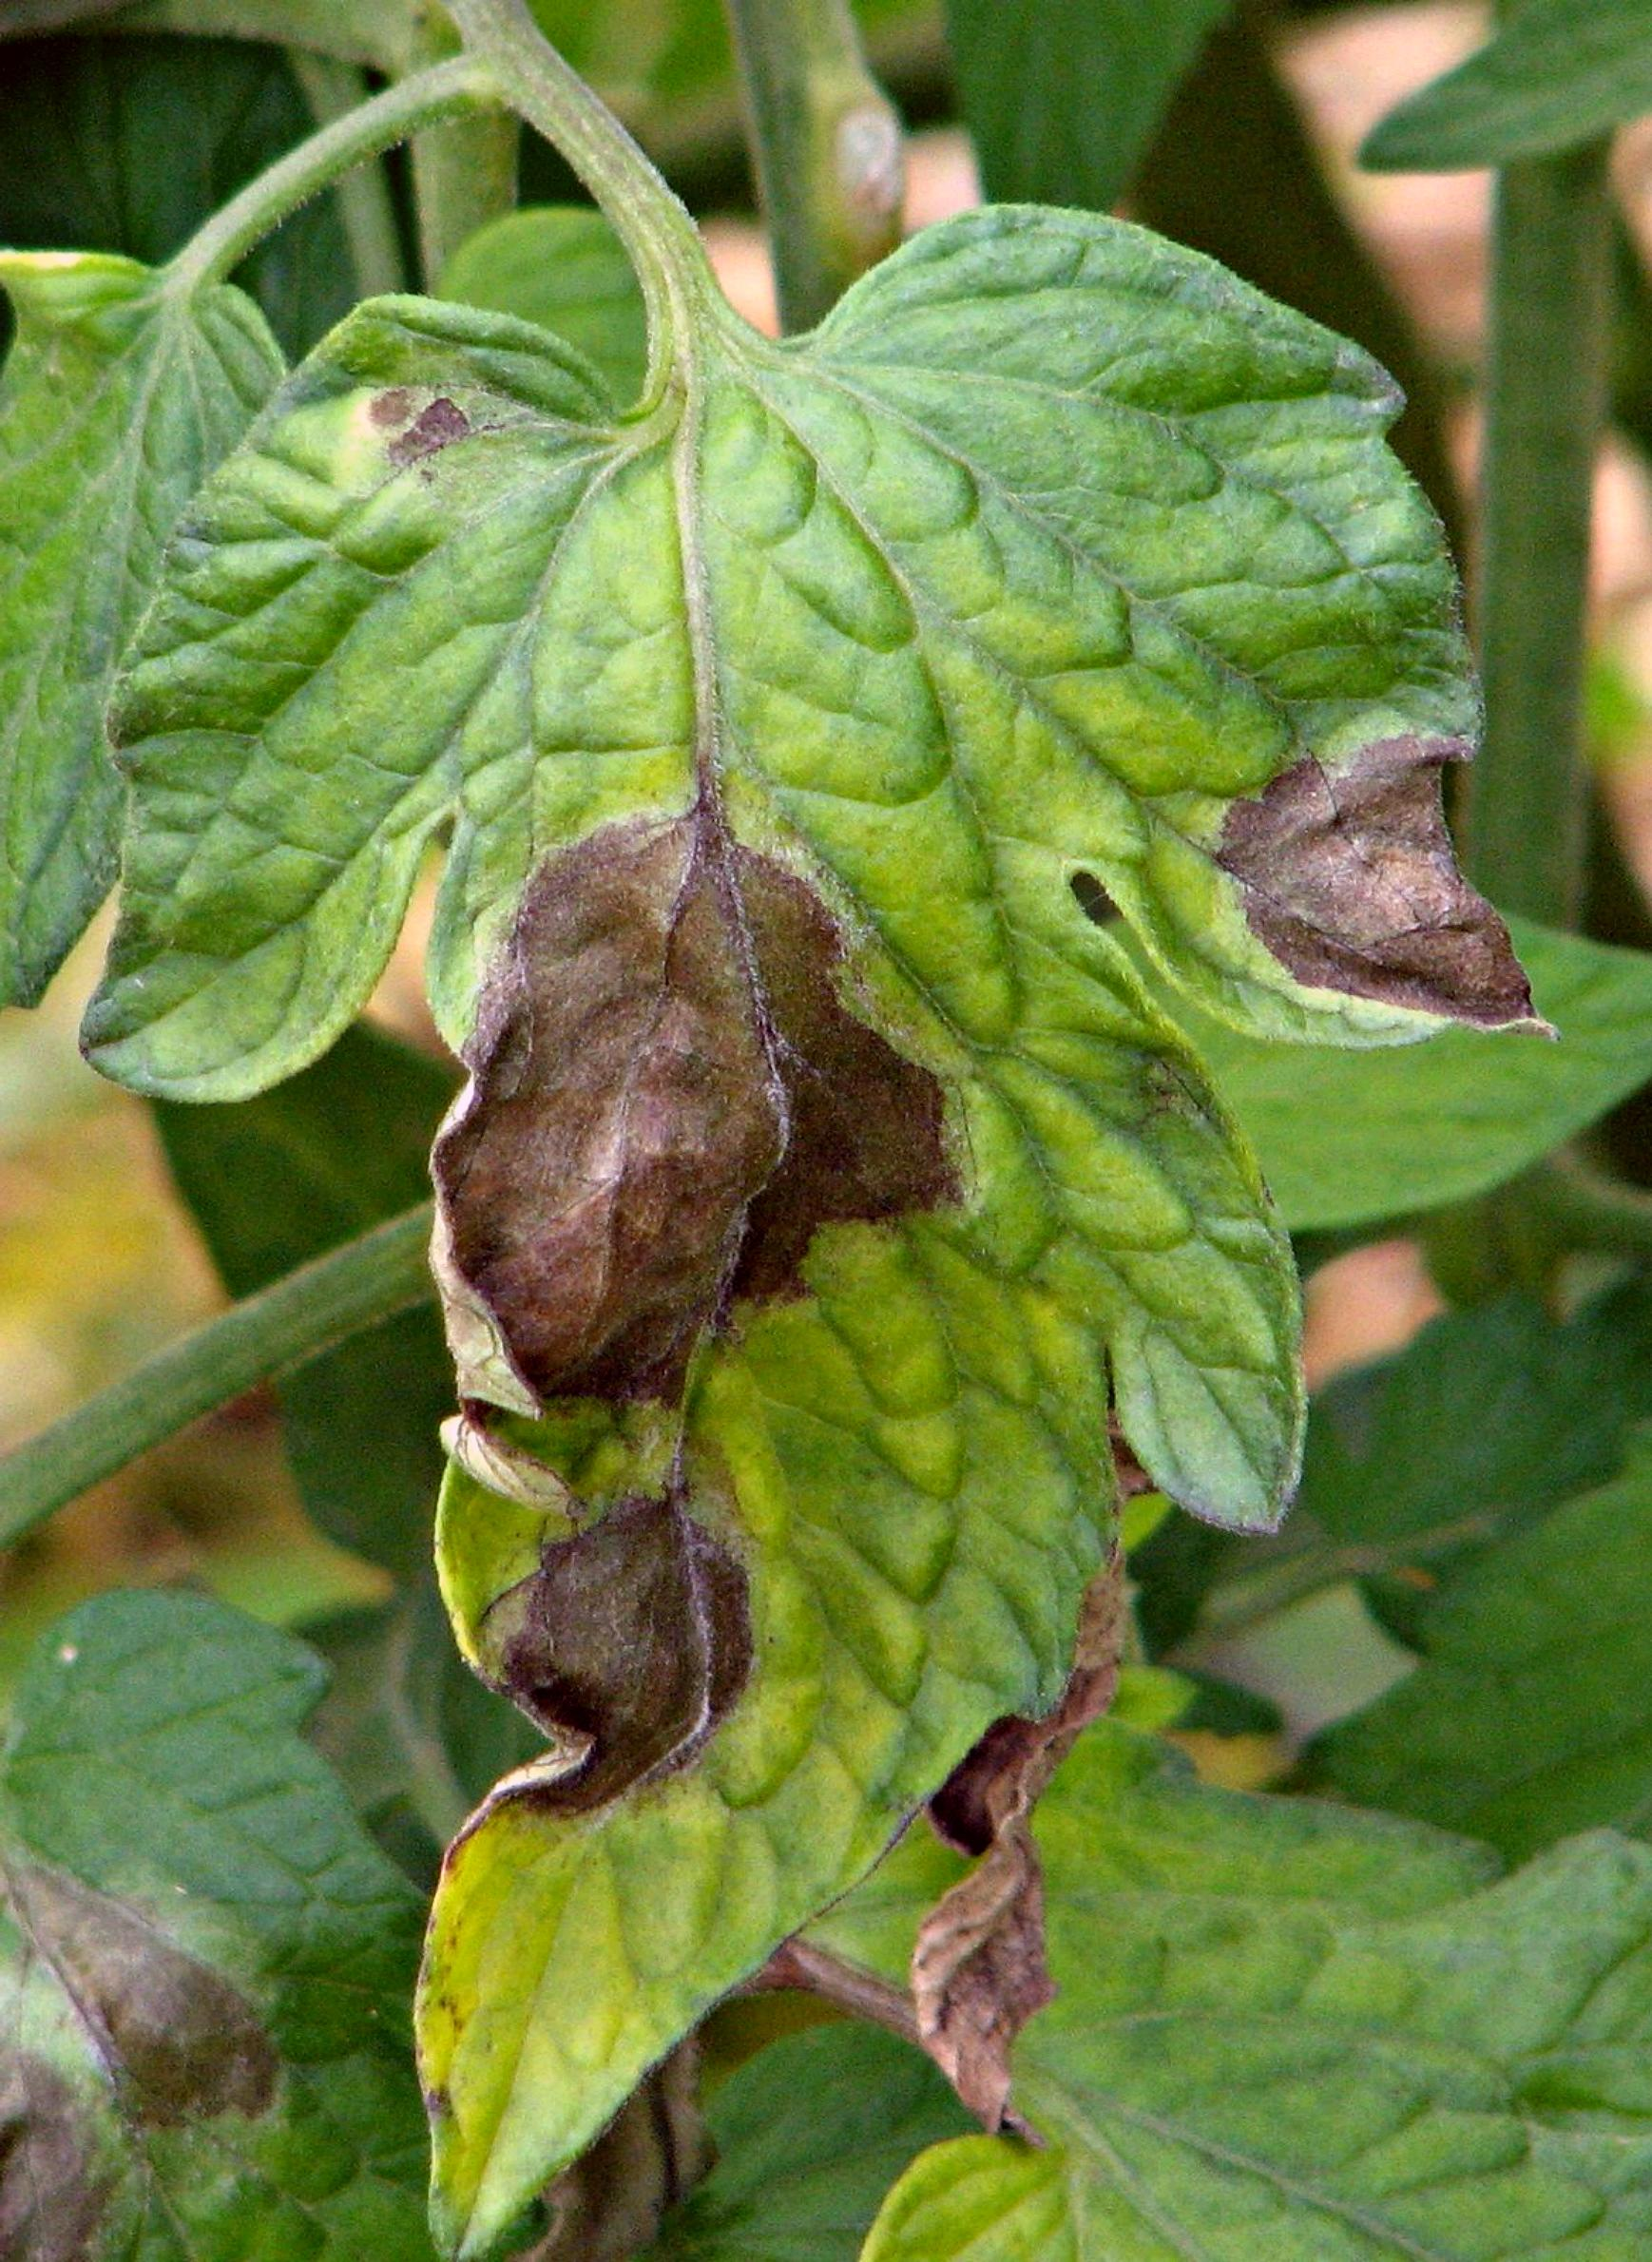Tomato leaf late blight: (127, 146, 1534, 2226)
